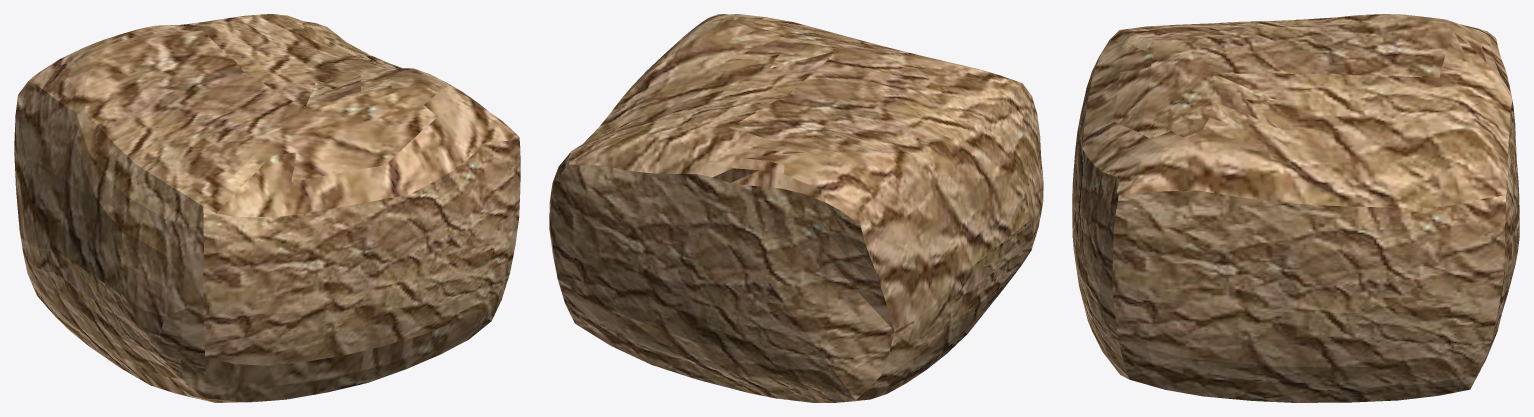
The model's file is Obstacle.fbx.
The picture shows the model from 3 angles, left to right: view 1: azimuth 30°, elevation 25°; view 2: azimuth 150°, elevation 25°; view 3: azimuth 270°, elevation 25°; orthographic projection. The views are drawn at different scales.
Visible parts, largest first — view 1: node_id7; view 2: node_id7; view 3: node_id7.
Boxes of the visible parts, box(x1,y1,x2,y2) form: node_id7: box(14, 14, 520, 402); node_id7: box(549, 14, 1043, 402); node_id7: box(1072, 14, 1519, 402).
Bounding box in the file's own units: 0.512 × 0.3697 × 0.5138.
2 materials, 2 textured.
